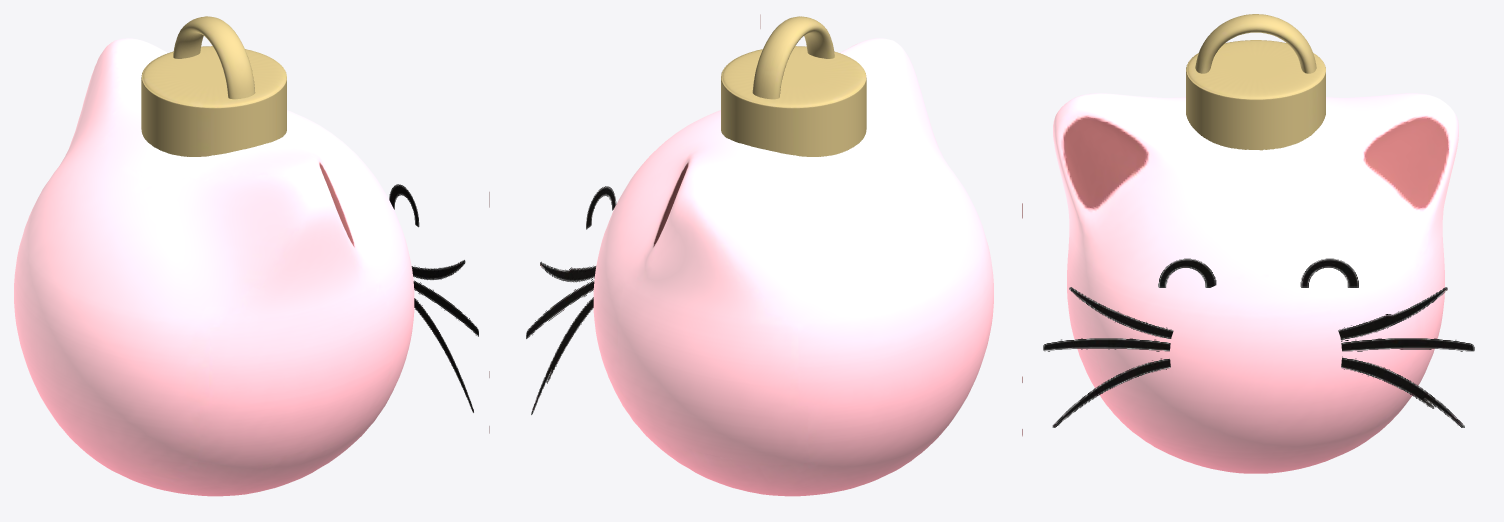
File: bauble-transformed.glb
3 renders of one model, left to right at view 1: azimuth 30°, elevation 25°; view 2: azimuth 150°, elevation 25°; view 3: azimuth 270°, elevation 25°, orthographic. The views are drawn at different scales.
Parts seen in each view (by area): view 1: p_Bauble1_m_Bauble_0; view 2: p_Bauble1_m_Bauble_0; view 3: p_Bauble1_m_Bauble_0.
Part boxes in pixels (x1,y1,x2,y2): p_Bauble1_m_Bauble_0: [14, 16, 489, 496]; p_Bauble1_m_Bauble_0: [526, 14, 993, 496]; p_Bauble1_m_Bauble_0: [1022, 14, 1474, 473].
Size of the model in its own units: 1.13 by 1.43 by 1.39.
1 material, 1 textured.
